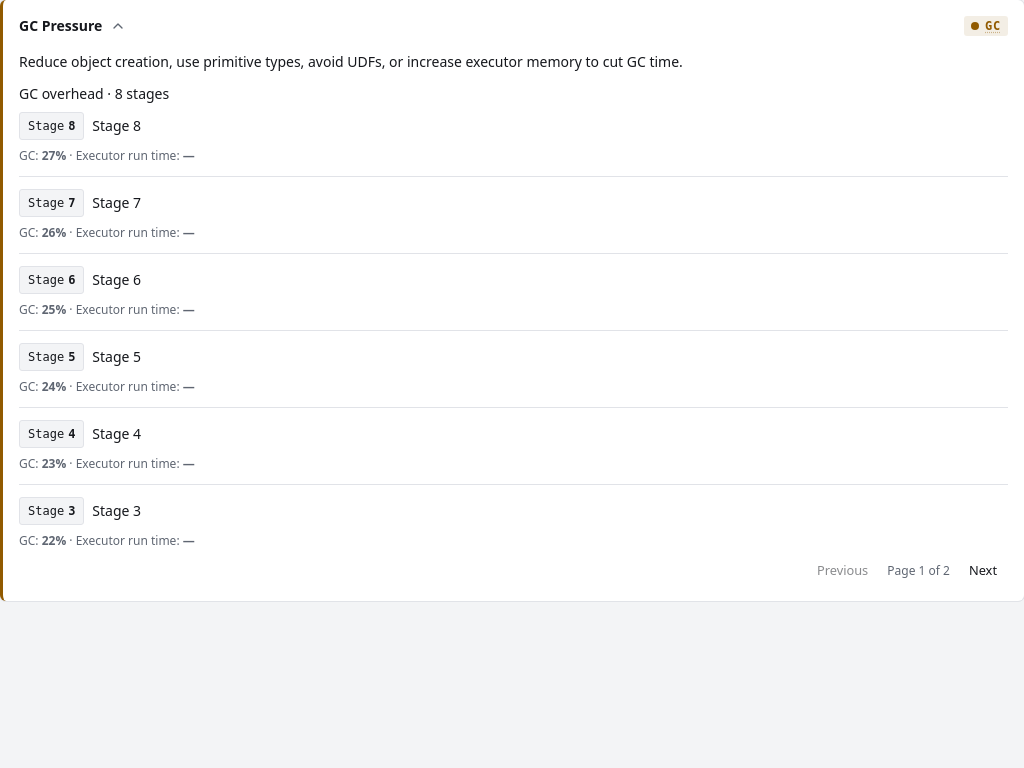
GcPressure › keeps every flagged stage reachable through pagination instead of hiding overflow behind a chip
The width and height of the screenshot is (1024, 768).
Expected: the button with aria-label "open details for stage 8" is shown, [19,112,84,140]
Click the button "Next". click: (983, 571)
box: [958,557,1008,585]
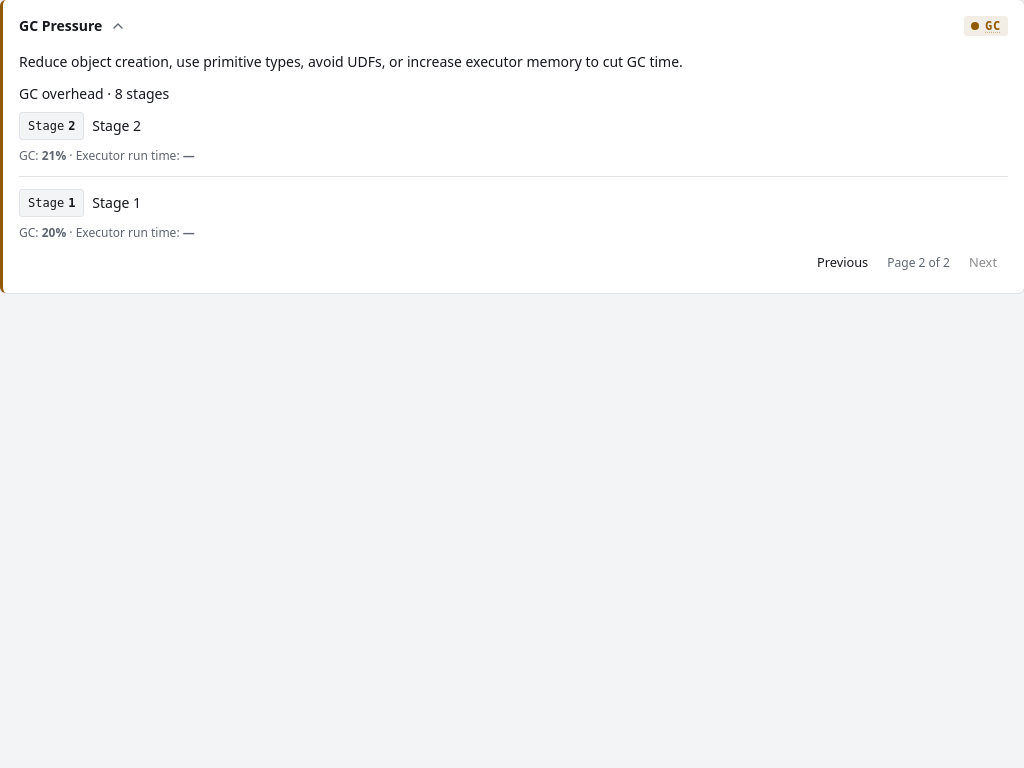
Now the button with aria-label "open details for stage 1" is shown, box [19,189,84,217]
Now the button with aria-label "open details for stage 2" is shown, box [19,112,84,140]
